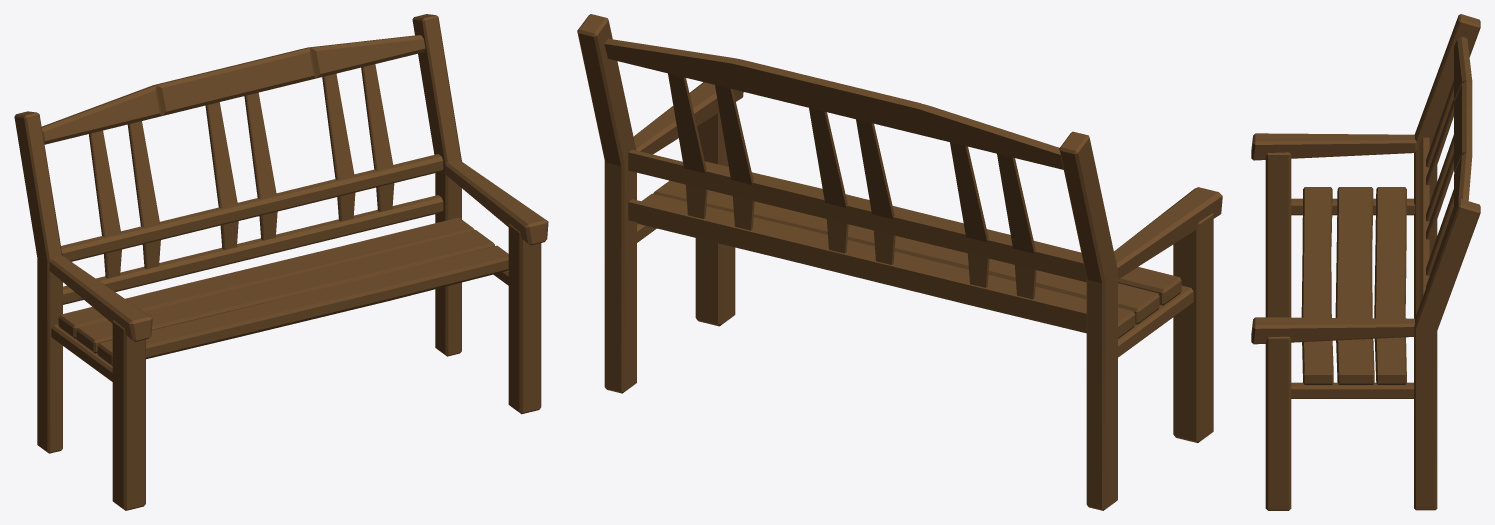
File: bench_b.gltf
The picture shows the model from 3 angles, left to right: view 1: azimuth 30°, elevation 25°; view 2: azimuth 150°, elevation 25°; view 3: azimuth 270°, elevation 25°; orthographic projection. The views are drawn at different scales.
Parts seen in each view (by area): view 1: bench_b001; view 2: bench_b001; view 3: bench_b001.
Boxes of the visible parts, box(x1,y1,x2,y2) form: bench_b001: box(14, 14, 548, 510); bench_b001: box(577, 14, 1222, 510); bench_b001: box(1251, 14, 1480, 510).
Bounding box in the file's own units: 1.38 × 1.01 × 0.6873.
Materials: 1 (1 with a texture image).
